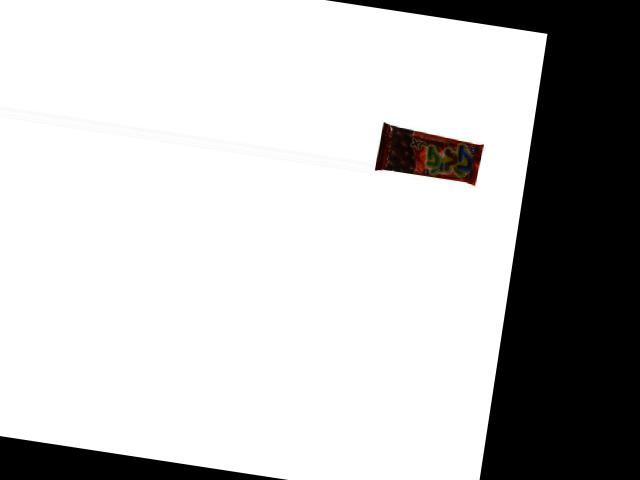chocolate: (375, 124, 484, 185)
